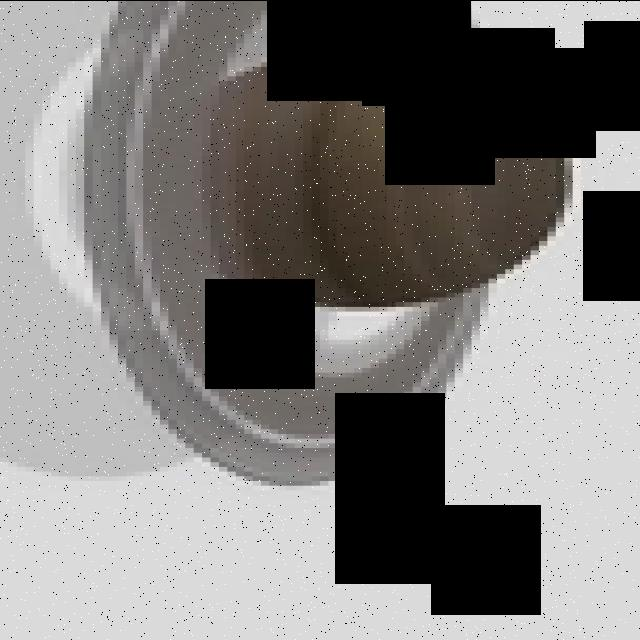Saturn: (93, 0, 581, 494)
